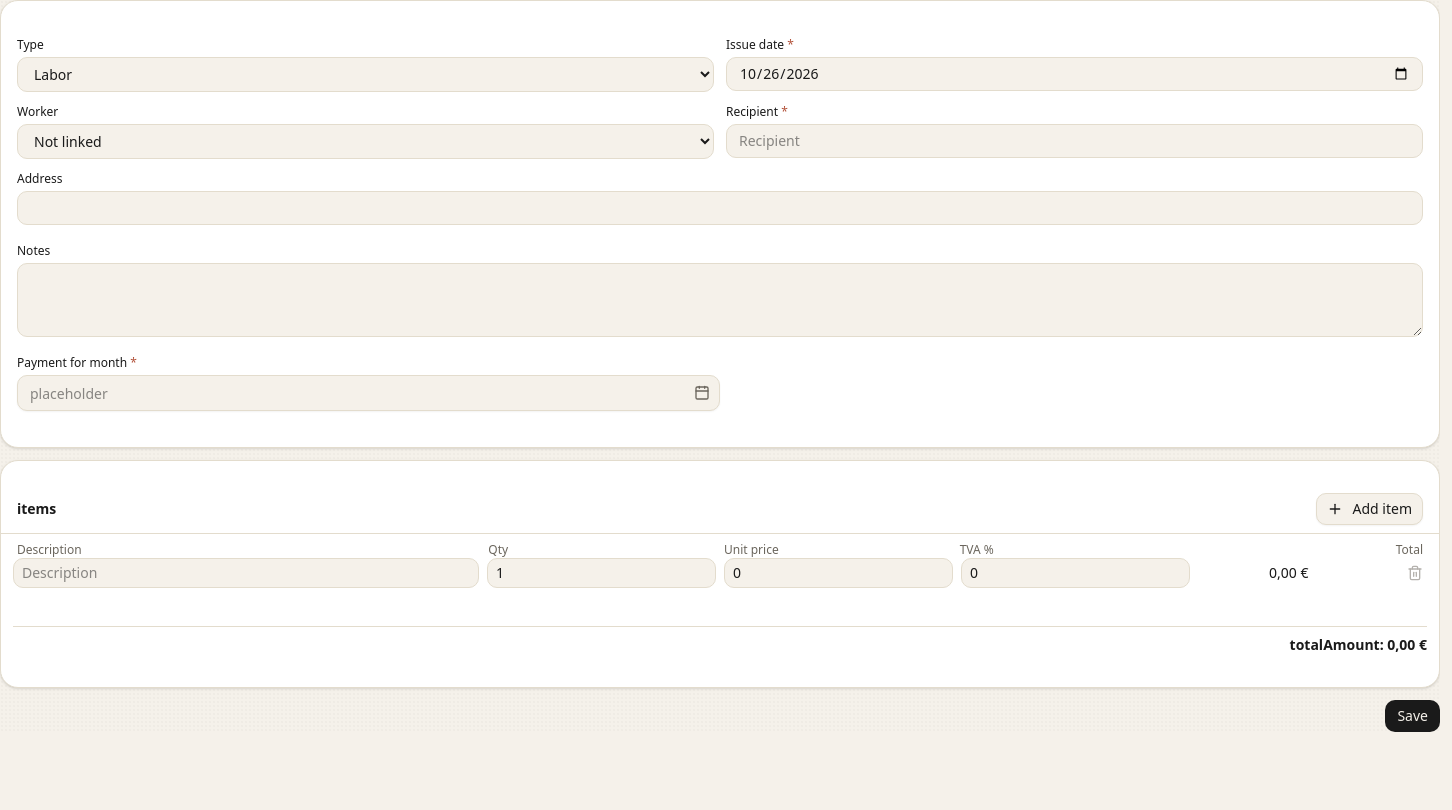
Scenario: InvoiceForm — labor worker picker › hides the free-text recipient once a worker is selected (create mode)
Expected: the field with test id "unlinked-labor-recipient-input" is shown, x1=726 y1=124 x2=1423 y2=158
Select "Amy Active" in the dropdown with test id "labor-worker-select" at (366, 142), box x1=17 y1=124 x2=714 y2=159
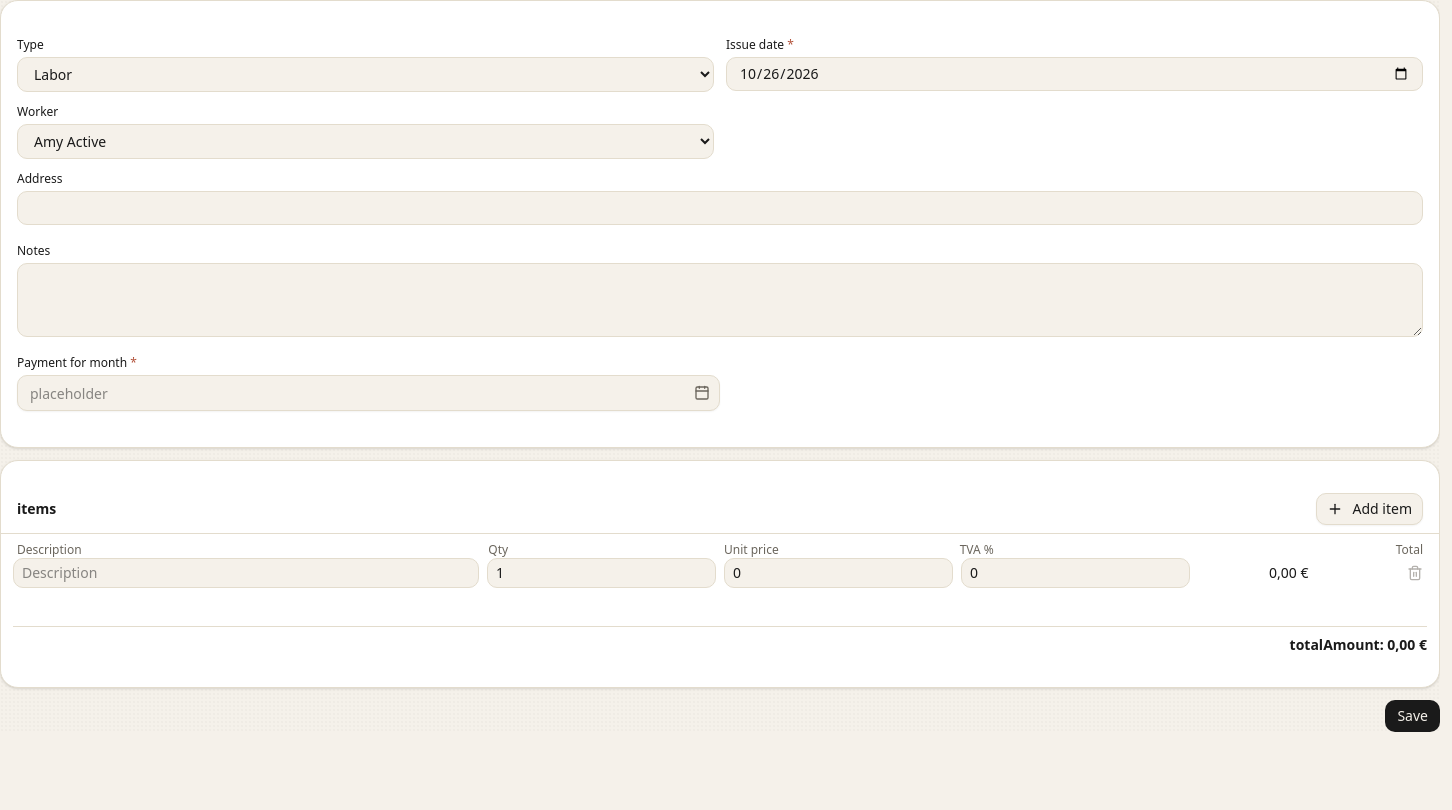
Expected: the field with test id "unlinked-labor-recipient-input" is gone
